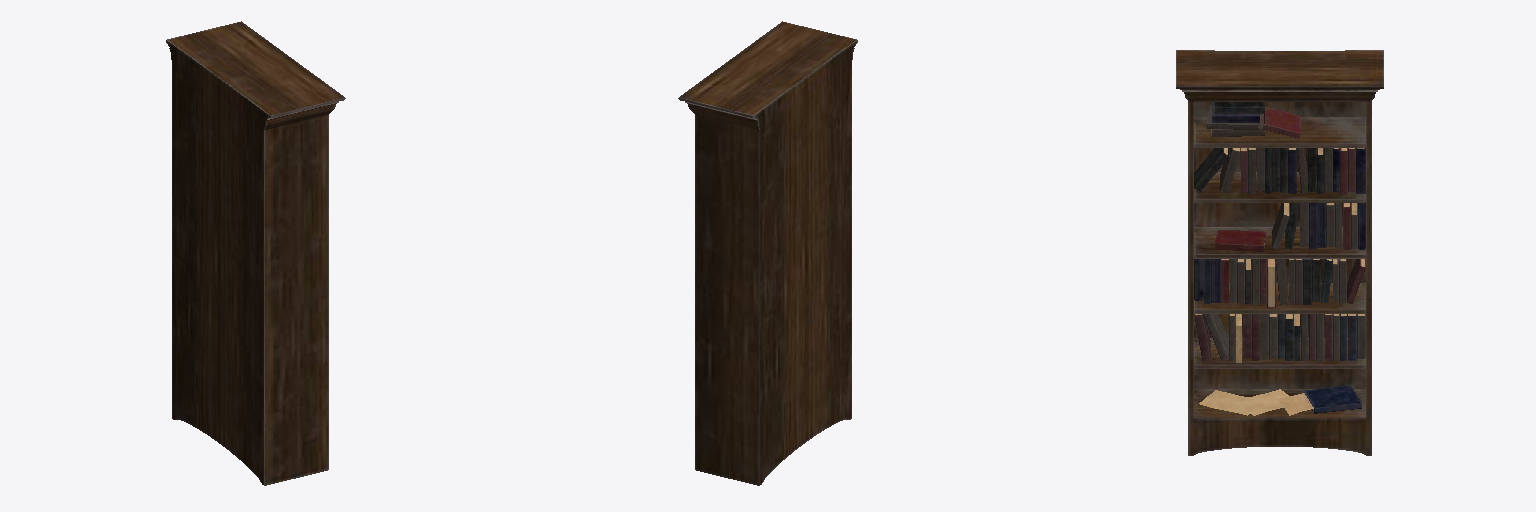
The picture shows the model from 3 angles: view 1: azimuth 30°, elevation 25°; view 2: azimuth 150°, elevation 25°; view 3: azimuth 270°, elevation 25°; orthographic projection.
Visible parts, largest first — view 1: Cube.000_Cube.004; view 2: Cube.000_Cube.004; view 3: Cube.000_Cube.004, book.001_book.075, book.045, book.000_book.074.
Part boxes in pixels (x1,y1,x2,y2): Cube.000_Cube.004: (166, 21, 345, 485); Cube.000_Cube.004: (678, 21, 857, 485); Cube.000_Cube.004: (1176, 50, 1383, 455); book.001_book.075: (1194, 203, 1365, 307); book.045: (1194, 314, 1365, 415); book.000_book.074: (1194, 102, 1365, 194).
Bounding box in the file's own units: 0.0852 × 0.4041 × 0.2044.
4 materials, 4 textured.